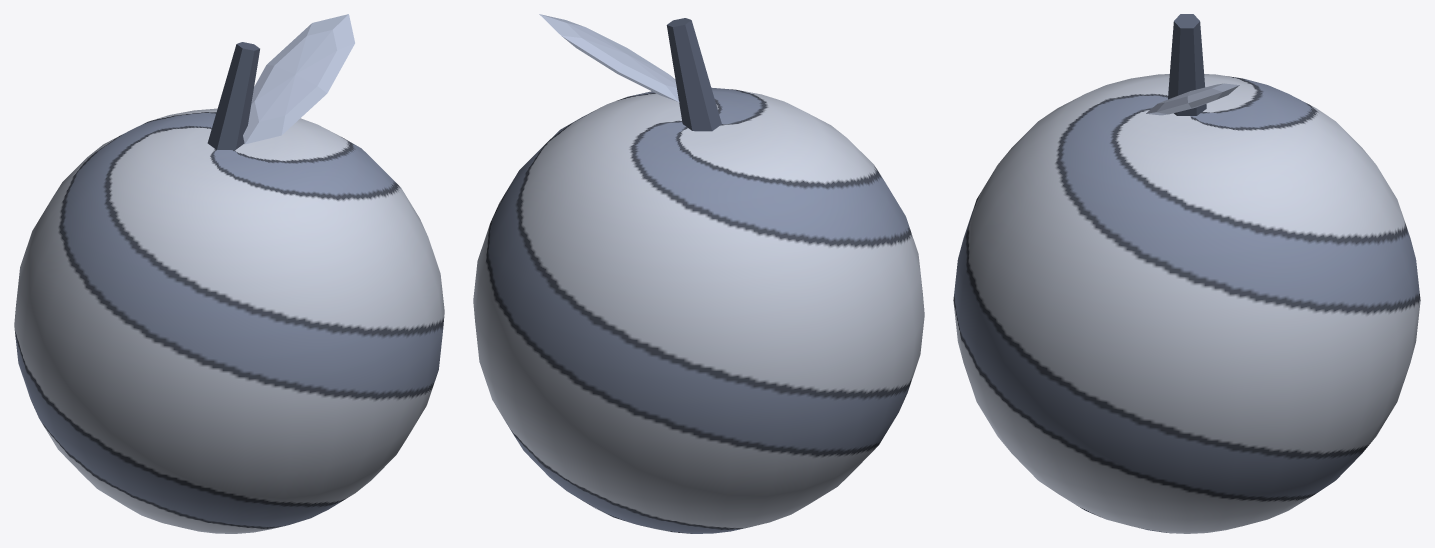
File: Fruit_Mirror.fbx
3 renders of one model, left to right at view 1: azimuth 30°, elevation 25°; view 2: azimuth 150°, elevation 25°; view 3: azimuth 270°, elevation 25°, orthographic. The views are drawn at different scales.
Parts seen in each view (by area): view 1: Fruit_Mirror; view 2: Fruit_Mirror; view 3: Fruit_Mirror.
Boxes of the visible parts, left/top/right/bottom form: Fruit_Mirror: left=14, top=14, right=444, bottom=533; Fruit_Mirror: left=473, top=14, right=924, bottom=533; Fruit_Mirror: left=953, top=14, right=1420, bottom=533.
Bounding box in the file's own units: 1.6 × 1.9 × 1.6.
Materials: 1 (1 with a texture image).
